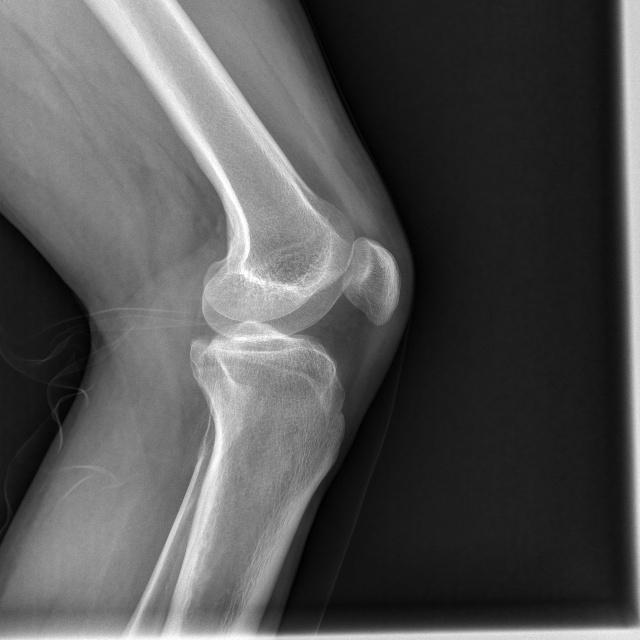Knee: (188, 237, 397, 407)
